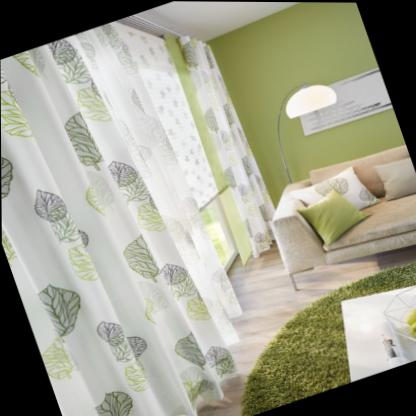Curtains: (0, 20, 271, 416)
